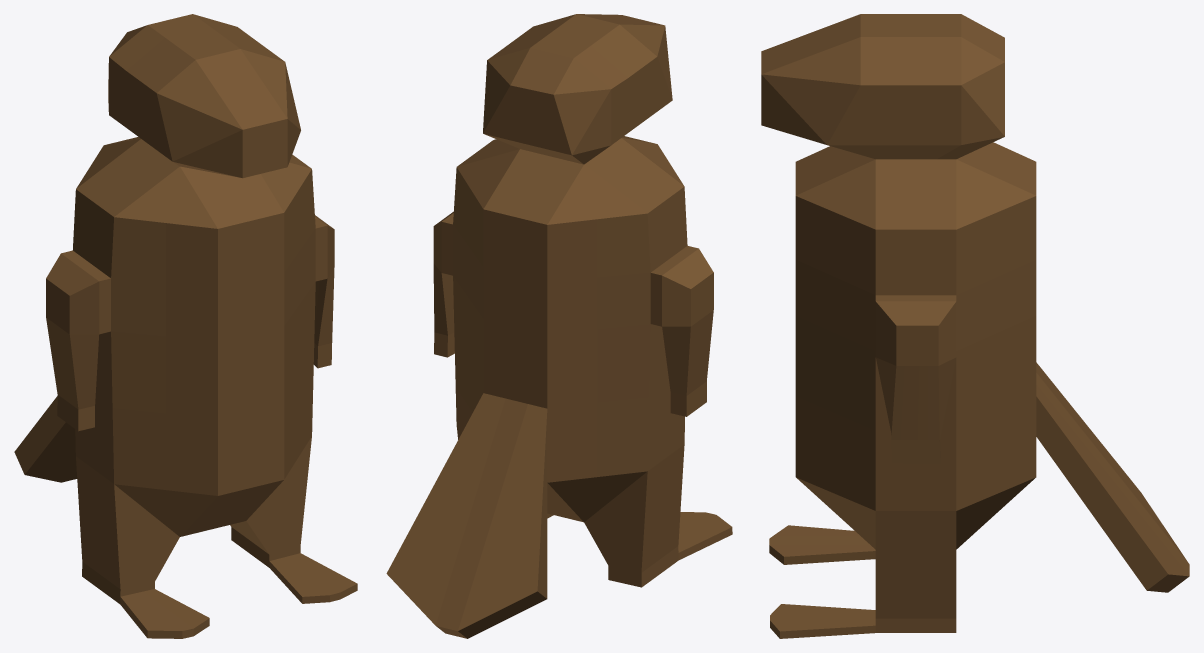
File: beaver_model.fbx
3 views of the same model, side by side, from view 1: azimuth 30°, elevation 25°; view 2: azimuth 150°, elevation 25°; view 3: azimuth 270°, elevation 25° (orthographic). The views are drawn at different scales.
Visible parts, largest first — view 1: Cube; view 2: Cube; view 3: Cube.
Boxes of the visible parts, x1=… form: Cube: x1=14, y1=14, x2=357, y2=638; Cube: x1=386, y1=14, x2=732, y2=638; Cube: x1=761, y1=14, x2=1189, y2=638.
Size of the model in its own units: 89.76 by 171 by 118.
